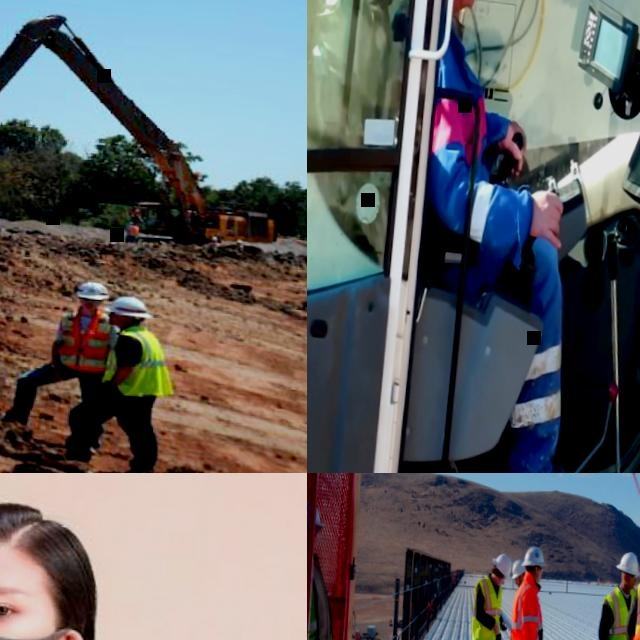Hardhat: (101, 292, 153, 317), (520, 542, 547, 570), (615, 548, 640, 577), (491, 549, 515, 578), (75, 279, 108, 300), (307, 495, 324, 531), (510, 556, 526, 581), (130, 203, 136, 206), (127, 219, 133, 222)
NO-Hardhat: (0, 486, 101, 587)
NO-Mask: (77, 300, 100, 309), (105, 315, 122, 325), (623, 577, 634, 590), (534, 569, 541, 581), (493, 577, 502, 586), (513, 577, 520, 586)
Person: (402, 0, 594, 473), (0, 481, 207, 640), (112, 473, 307, 640), (59, 290, 179, 473), (0, 272, 121, 446), (307, 494, 346, 640), (586, 546, 640, 640), (463, 547, 517, 640), (501, 543, 550, 640), (500, 558, 526, 640), (127, 202, 142, 224), (123, 219, 138, 241)
Safety Vest: (425, 41, 500, 254), (97, 320, 177, 399), (54, 310, 112, 371), (307, 545, 340, 640), (508, 570, 547, 640), (599, 582, 636, 640), (470, 576, 503, 640), (627, 576, 640, 634), (127, 223, 138, 233), (127, 206, 139, 215)
machinery: (307, 0, 640, 473), (0, 0, 284, 250)
